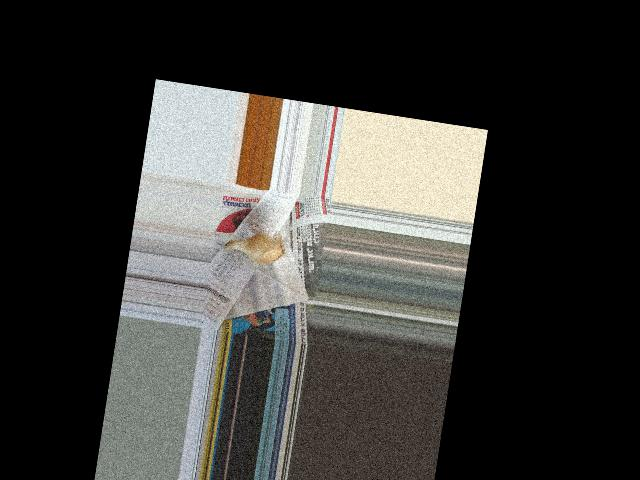onion: (237, 231, 284, 268)
